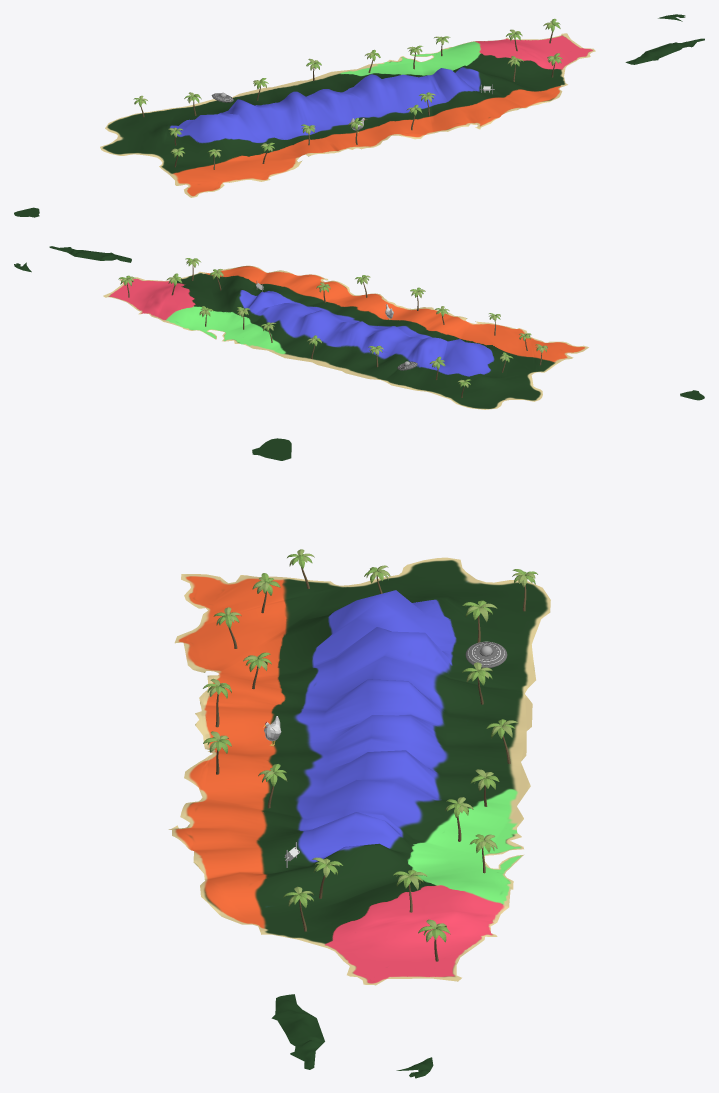
3 renders of one model, top to bottom at view 1: azimuth 30°, elevation 25°; view 2: azimuth 150°, elevation 25°; view 3: azimuth 270°, elevation 25°, orthographic. The views are drawn at different scales.
Parts seen in each view (by area): view 1: IslaPrincipal, Vieques; view 2: IslaPrincipal, Vieques; view 3: IslaPrincipal, Vieques.
Boxes of the visible parts, x1,y1,x2,y2 form: IslaPrincipal: (100, 33, 595, 197); Vieques: (625, 38, 704, 64); IslaPrincipal: (103, 265, 588, 409); Vieques: (49, 246, 131, 262); IslaPrincipal: (168, 557, 550, 985); Vieques: (271, 994, 324, 1069).
Size of the model in its own units: 436 by 19.84 by 110.
